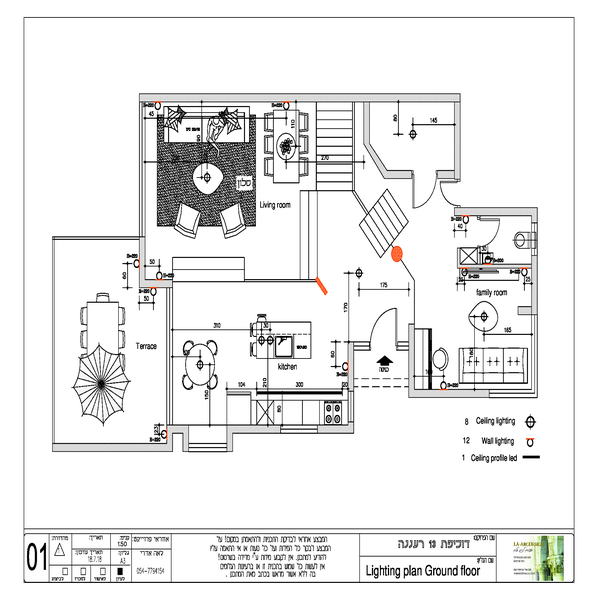door: (409, 163, 440, 219), (367, 302, 400, 349), (476, 215, 508, 249)
room: (135, 94, 357, 290), (165, 280, 359, 436), (410, 206, 540, 403)
wall: (137, 90, 461, 108), (53, 444, 177, 453), (454, 94, 465, 183), (453, 208, 536, 219), (361, 95, 380, 142), (409, 387, 491, 396), (407, 324, 417, 393), (379, 165, 414, 184), (345, 336, 356, 387), (227, 424, 278, 434), (137, 237, 147, 287), (316, 423, 359, 434), (438, 169, 462, 186), (144, 278, 173, 292), (163, 425, 188, 434)
window: (187, 442, 224, 453), (286, 424, 317, 434)
